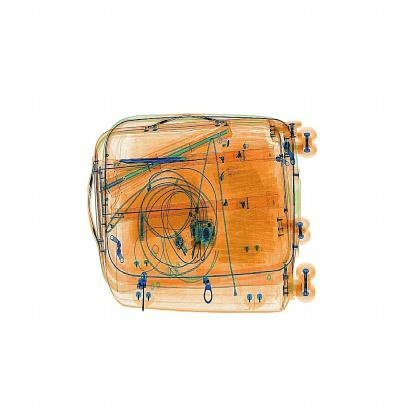pliers: (119, 148, 194, 176)
